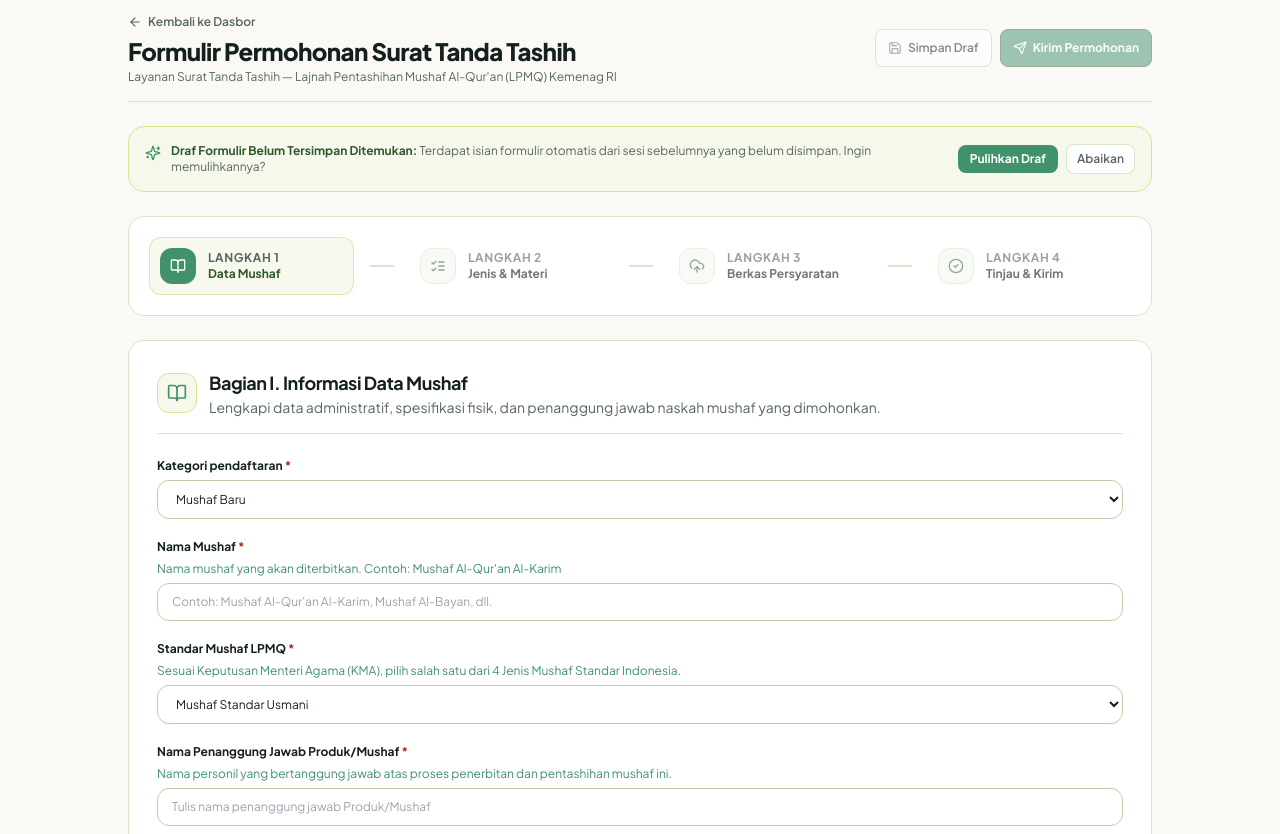
Scenario: NewRegistration Stepper and Enhancements › prompts to restore autosaved draft when sessionStorage contains draft data
Expected: the text "Draf Formulir Belum Tersimpan Ditemukan:" is shown, [171, 143, 419, 158]
Click the button "Pulihkan Draf". click: (1008, 159)
box: [958, 145, 1058, 173]
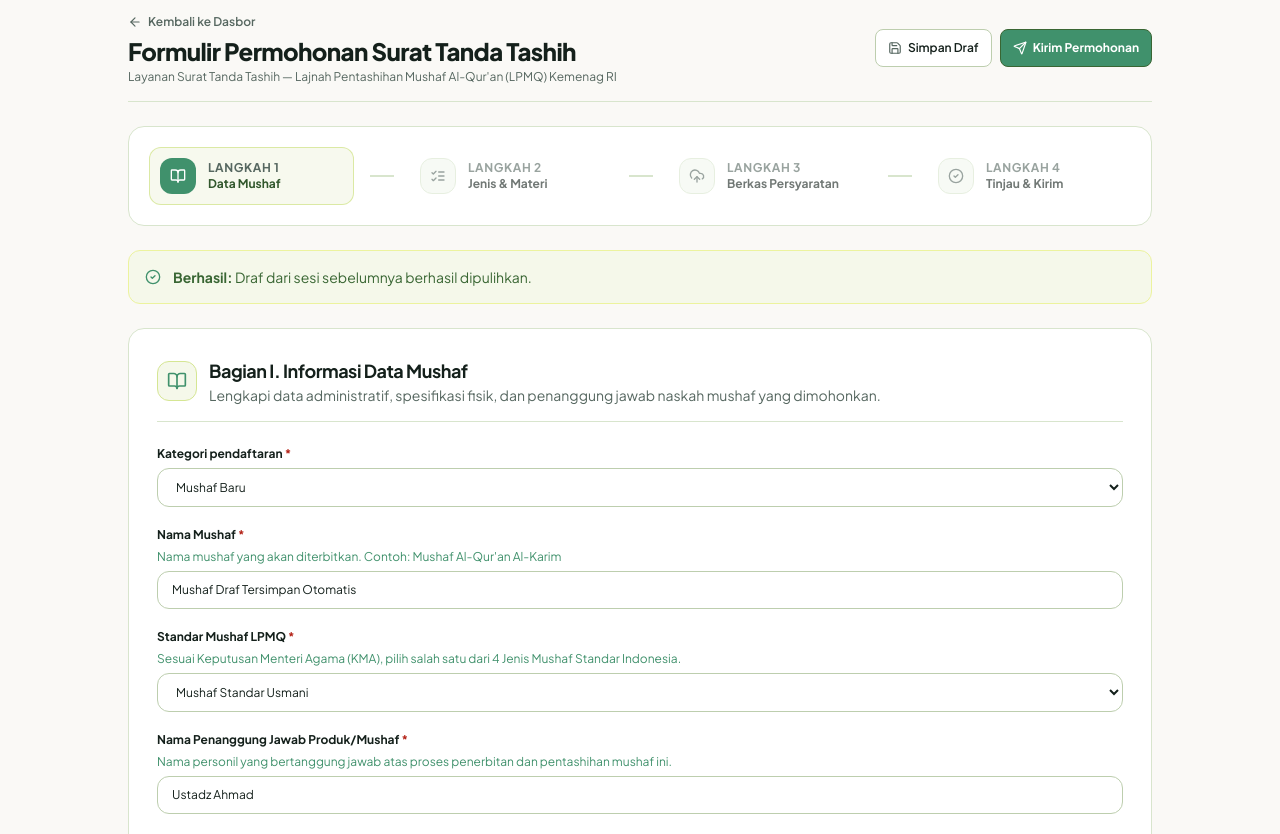
Expected: the field with placeholder "Contoh: Mushaf Al-Qur'an Al-Karim, Mushaf Al-Bayan, dll." holds "Mushaf Draf Tersimpan Otomatis", [157, 571, 1123, 609]
